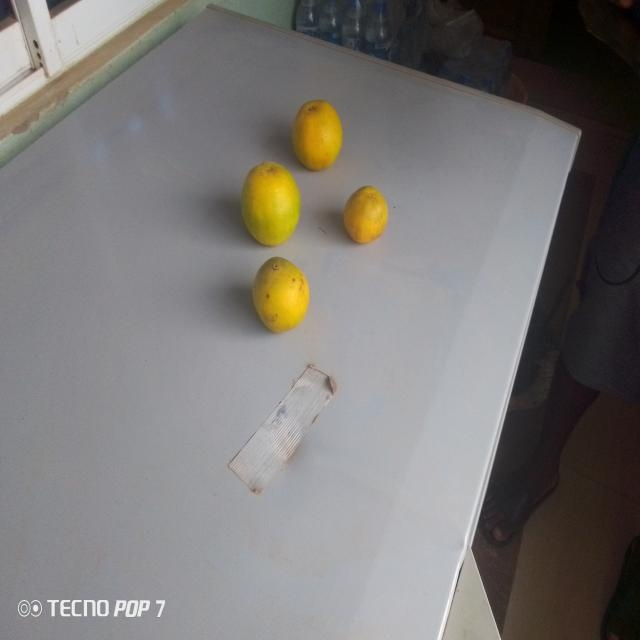agrume: (234, 154, 304, 255), (249, 251, 313, 342), (287, 93, 344, 171), (340, 178, 391, 251)
